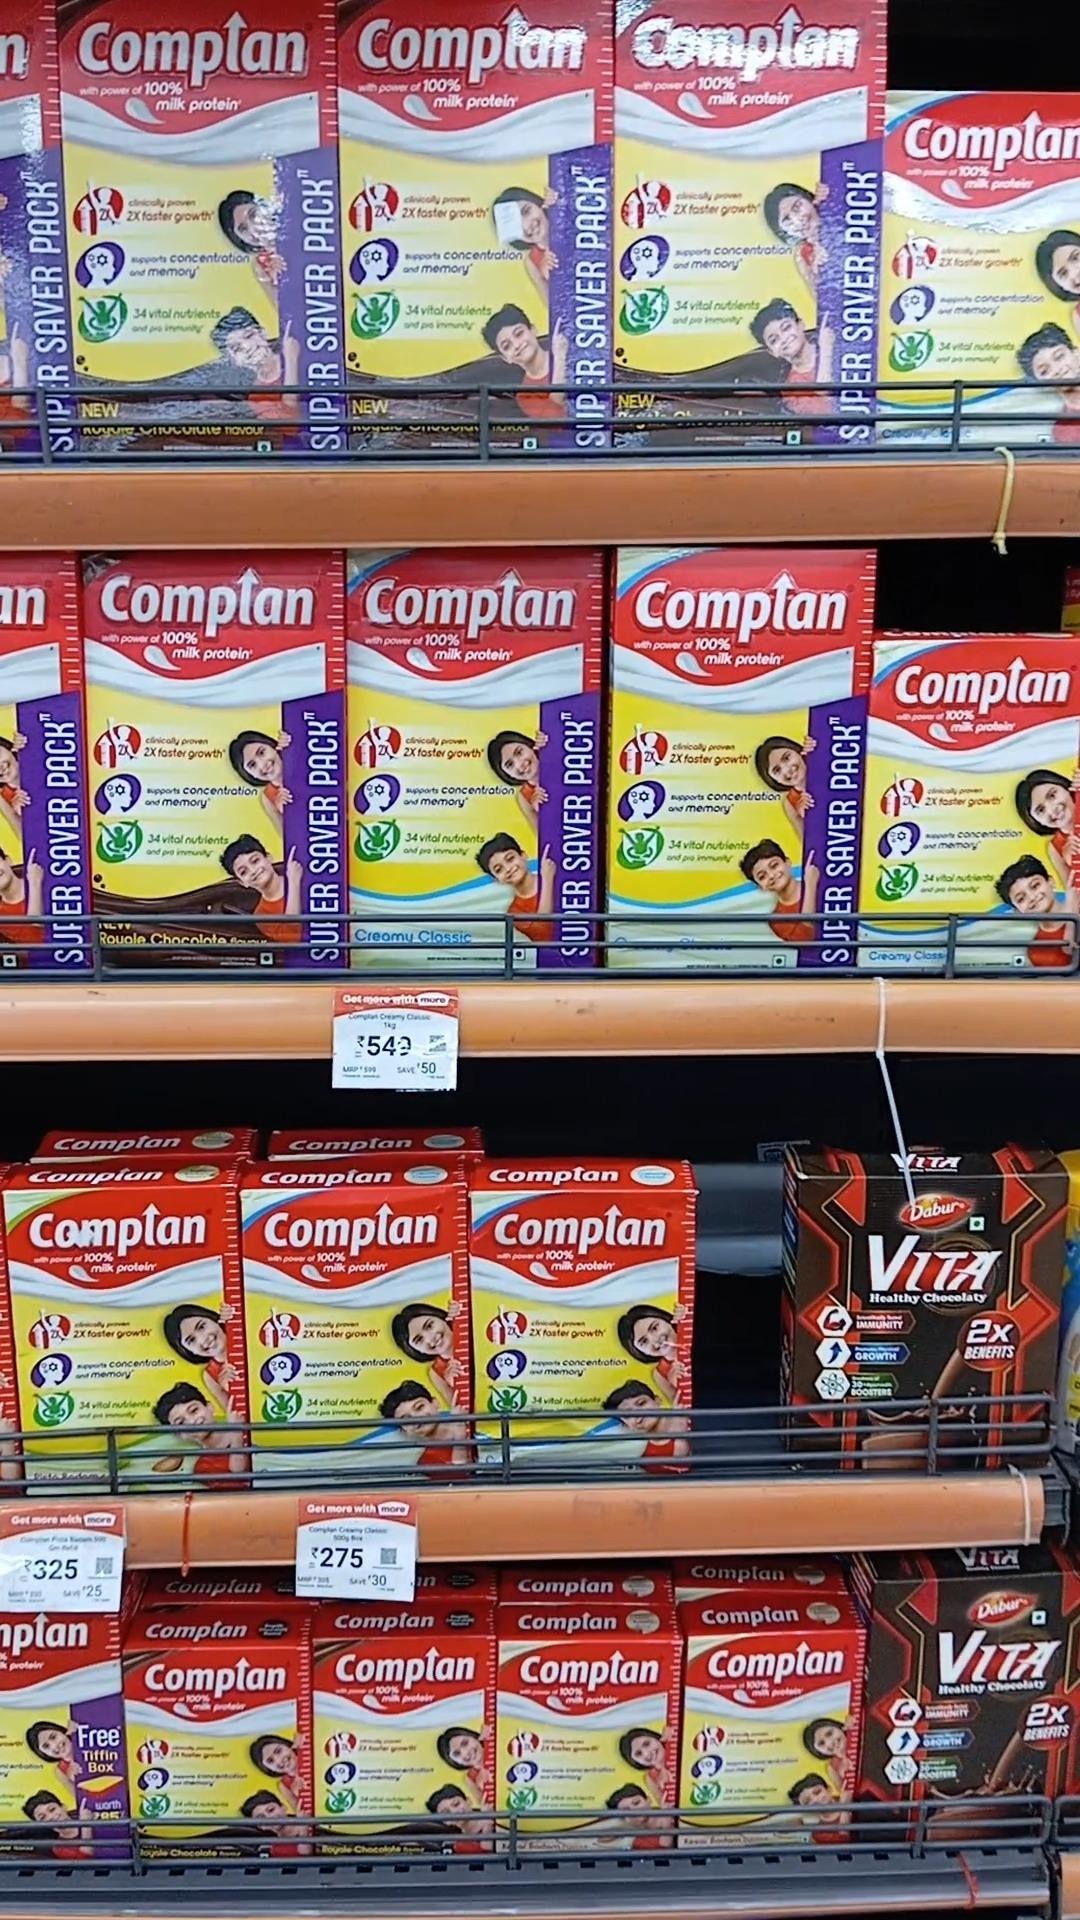COMPLAN_CHOCOLATE_1_KG_PACK: (61, 0, 335, 462), (615, 0, 876, 463), (344, 0, 605, 459), (79, 539, 336, 980)
COMPLAN_CHOCOLATE_500_GMS_PACK: (127, 1647, 299, 1876), (322, 1647, 487, 1870)
COMPLAN_CREAMY_CLASSIC_500_G_PACK: (866, 638, 1080, 977), (886, 86, 1080, 450), (240, 1180, 459, 1489), (471, 1191, 688, 1477)
COMPLAN_KESAR_BADAM_500_GMS_PACK: (506, 1631, 676, 1849), (691, 1636, 851, 1851)
COMPLAN_PISTA_BADAM_500_GMS_PACK: (0, 1185, 243, 1487)
